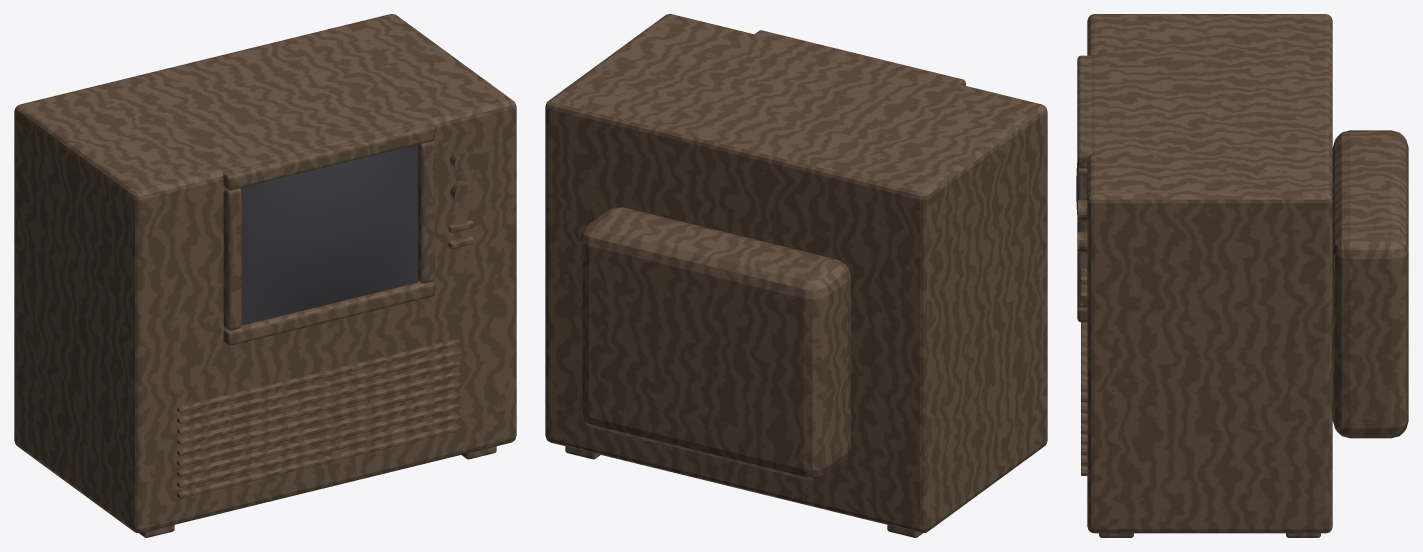
The model's file is PRP_CRTTV_Intact.fbx.
The picture shows the model from 3 angles, left to right: view 1: azimuth 30°, elevation 25°; view 2: azimuth 150°, elevation 25°; view 3: azimuth 270°, elevation 25°; orthographic projection.
Visible parts, largest first — view 1: TV_Shell, TV_Screen; view 2: TV_Shell; view 3: TV_Shell.
Part boxes in pixels (x1=…): TV_Shell: x1=14, y1=14, x2=516, y2=537; TV_Screen: x1=240, y1=145, x2=417, y2=325; TV_Shell: x1=545, y1=14, x2=1047, y2=537; TV_Shell: x1=1077, y1=14, x2=1408, y2=537.
Size of the model in its own units: 75 by 66 by 56.9.
